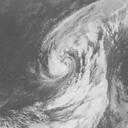cyclone: (39, 7, 98, 84)
